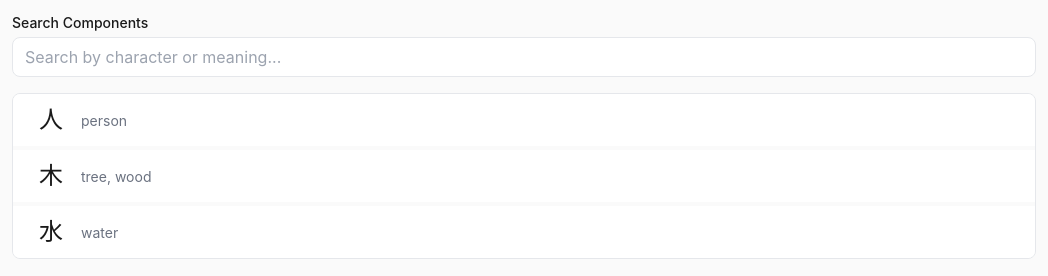
Test: KanjiDetailComponentSearch › search filtering › lists no components when nothing matches
This screenshot has width=1048, height=276.
In the field: (524, 57) x1=12 y1=37 x2=1036 y2=77, type "xyz"
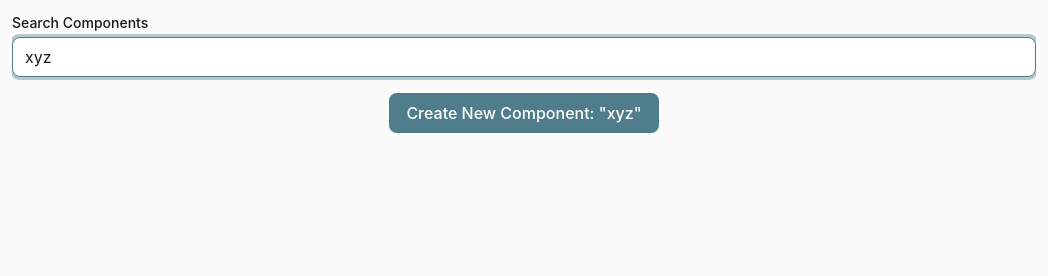
Now the button "人" is gone
Now the button "木" is gone
